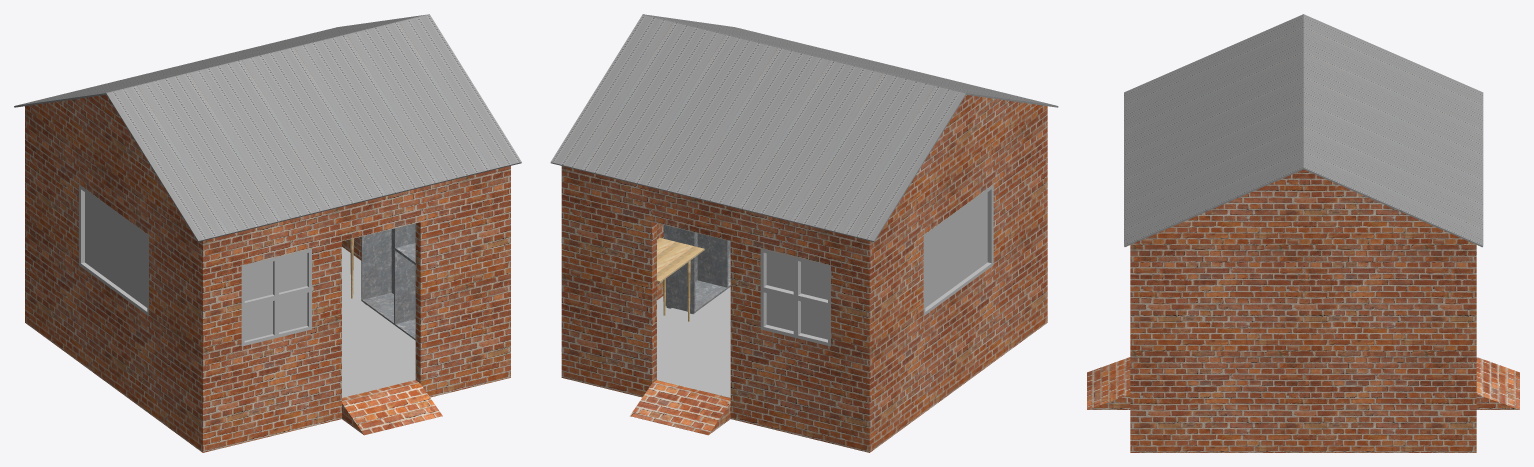
The model's file is CasaEquipos.FBX.
The picture shows the model from 3 angles, left to right: view 1: azimuth 30°, elevation 25°; view 2: azimuth 150°, elevation 25°; view 3: azimuth 270°, elevation 25°; orthographic projection. The views are drawn at different scales.
Visible parts, largest first — view 1: Box001, Box004, Box005, Box002, vidrio, Box003, ventanasp, ventana02; view 2: Box001, Box003, Box002, Box005, Box004, vidrio001, ventanasp, ventana02, Box006; view 3: Box001, Box003, Box004.
Boxes of the visible parts, x1,y1,x2,y2 form: Box001: (25,95,510,452); Box004: (106,14,521,241); Box005: (361,223,415,340); Box002: (85,192,147,307); vidrio: (244,253,307,340); Box003: (14,14,429,107); ventanasp: (241,248,311,346); ventana02: (79,185,148,316); Box001: (561,95,1047,452); Box003: (550,14,966,241); Box002: (925,192,987,307); Box005: (663,225,730,314); Box004: (643,14,1058,107); vidrio001: (766,253,827,339); ventanasp: (760,249,830,346); ventana02: (923,185,993,315); Box006: (657,238,704,321); Box001: (1087,169,1519,452); Box003: (1303,14,1483,247); Box004: (1124,14,1303,246).
Size of the model in its own units: 420 by 368 by 500.
